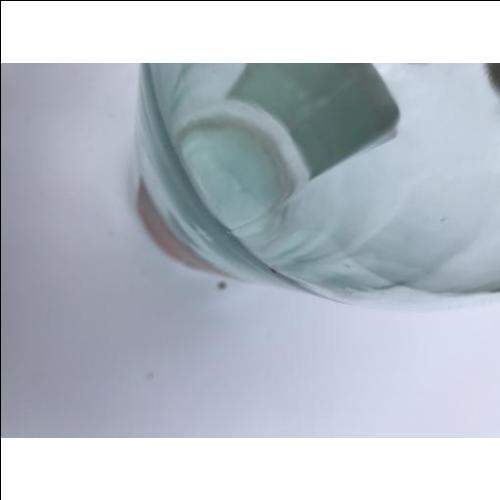glass: (139, 65, 500, 300)
